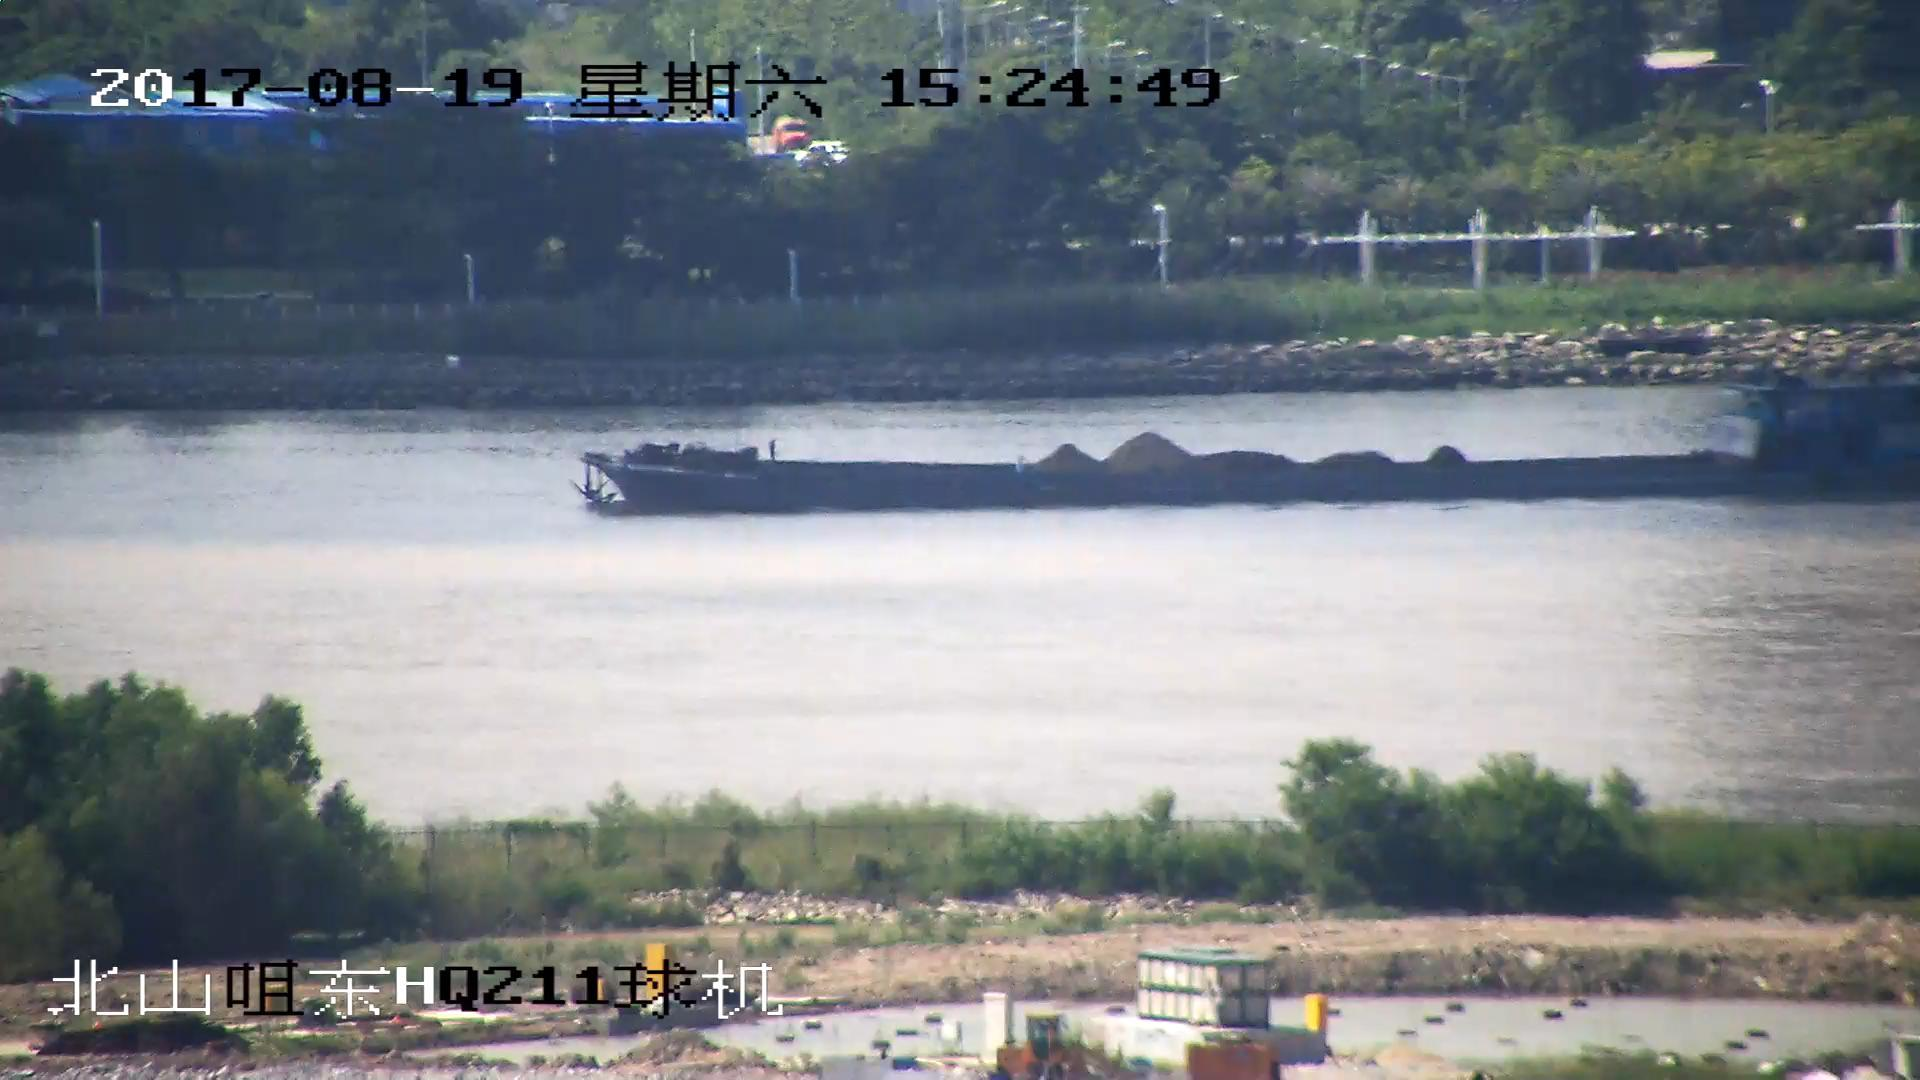Ship: (593, 367, 1920, 518)
